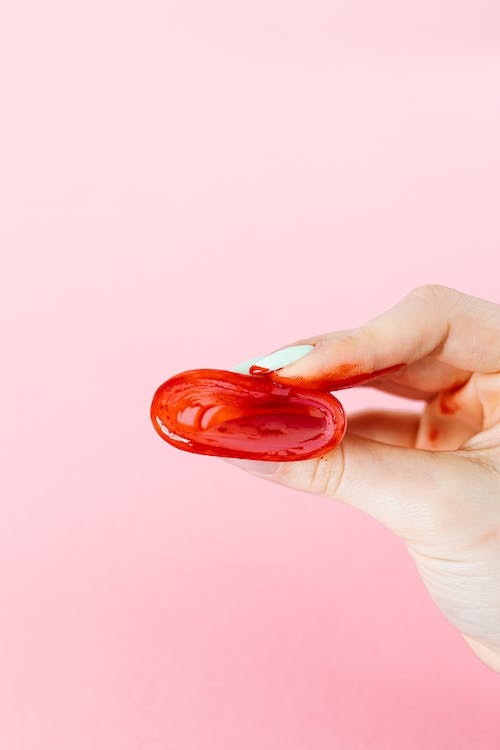blood: (245, 354, 475, 450), (148, 364, 350, 462)
